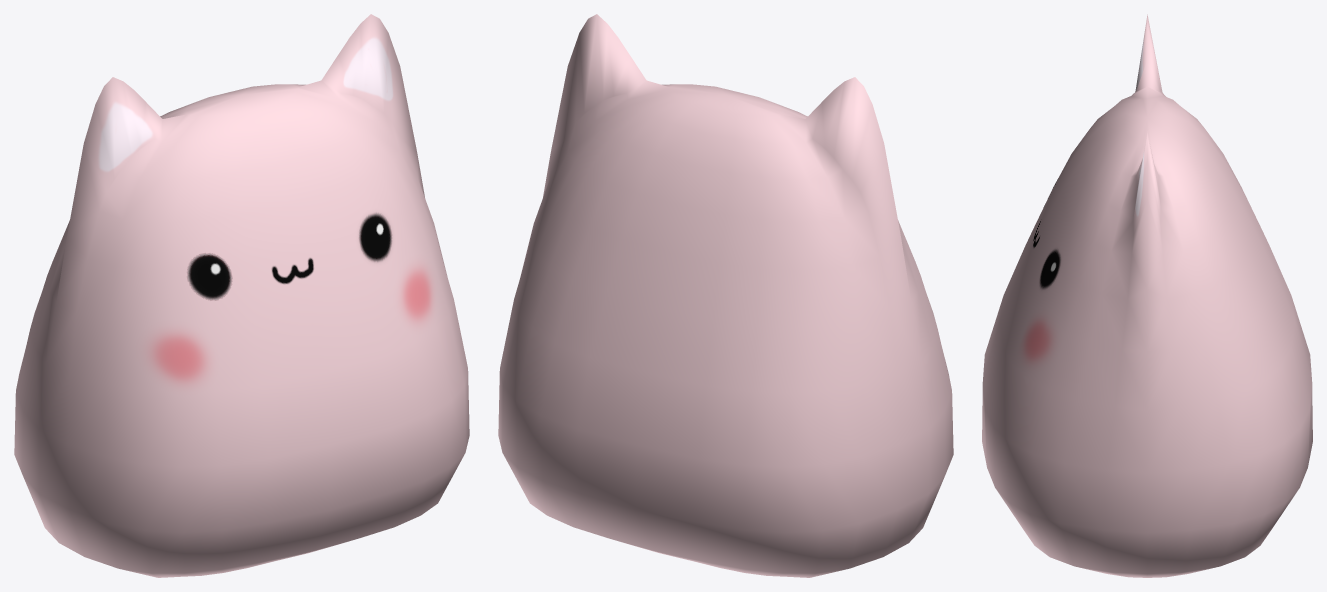
Rendered from cat 1.glb.
3 renders of one model, left to right at view 1: azimuth 30°, elevation 25°; view 2: azimuth 150°, elevation 25°; view 3: azimuth 270°, elevation 25°, orthographic. The views are drawn at different scales.
Visible parts, largest first — view 1: Cat (No Mirror); view 2: Cat (No Mirror); view 3: Cat (No Mirror).
Boxes of the visible parts, box(x1,y1,x2,y2) form: Cat (No Mirror): box(14, 14, 469, 577); Cat (No Mirror): box(498, 14, 953, 577); Cat (No Mirror): box(982, 14, 1312, 577).
Size of the model in its own units: 1.65 by 1.93 by 1.26.
Materials: 1 (1 with a texture image).
